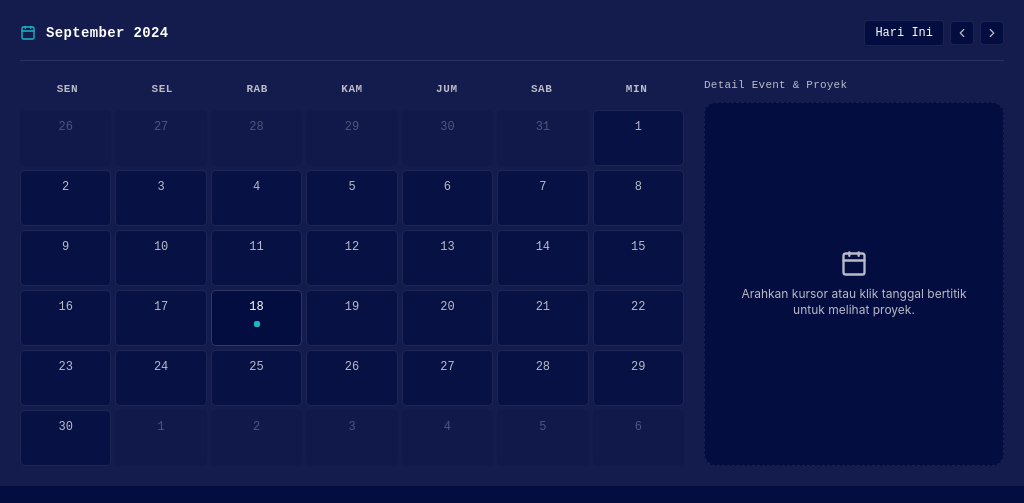
Test: CalendarApp RTL Component Tests › supports multiple projects on the same date
The image size is (1024, 503).
// Navigate to October if current month is September
Step 1. Click the button with test id "calendar-next-btn" → (992, 33), box [980,21,1004,45]
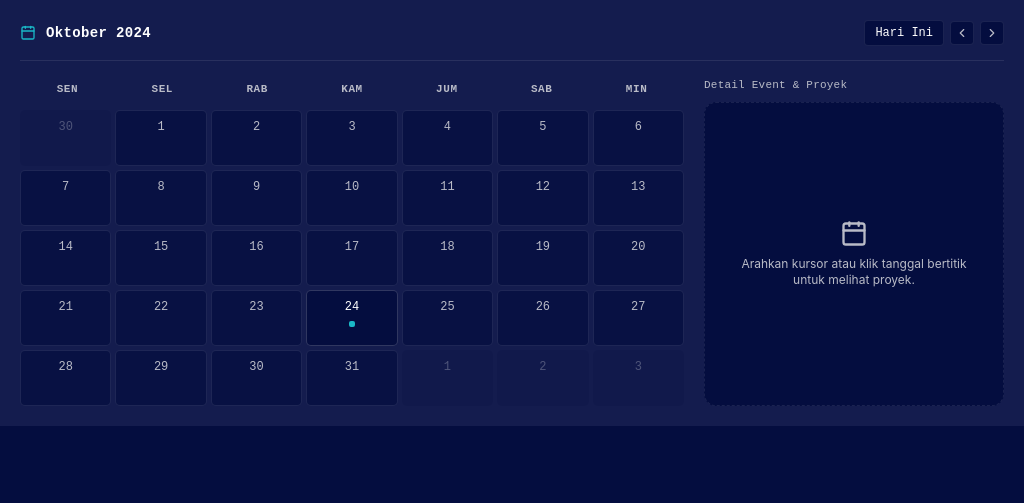
Step 2. Hover over the element with test id "calendar-cell-2024-10-24" → (352, 318), box [306,290,398,346]
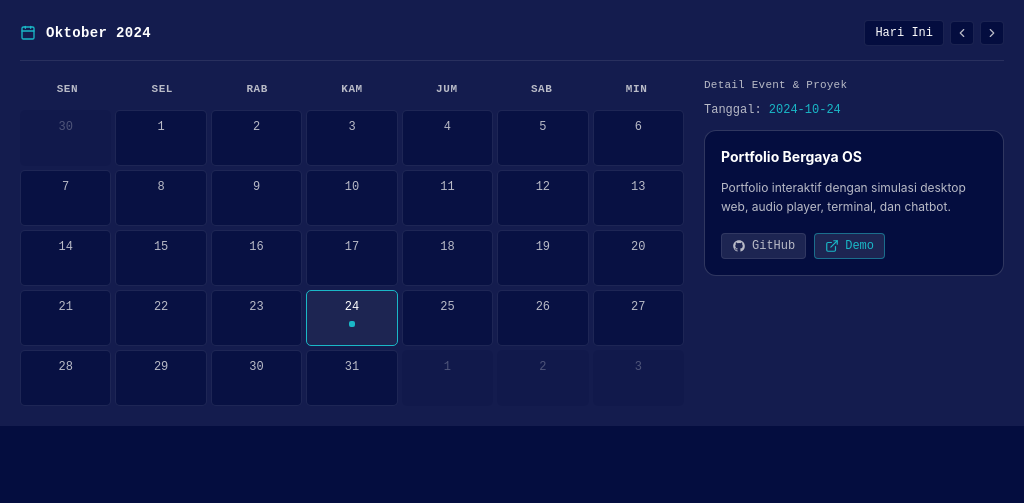
Expected: the element with test id "project-card" is shown, [704,102,1004,276]
Expected: the heading "Portfolio Bergaya OS" is shown, [721,146,862,166]
